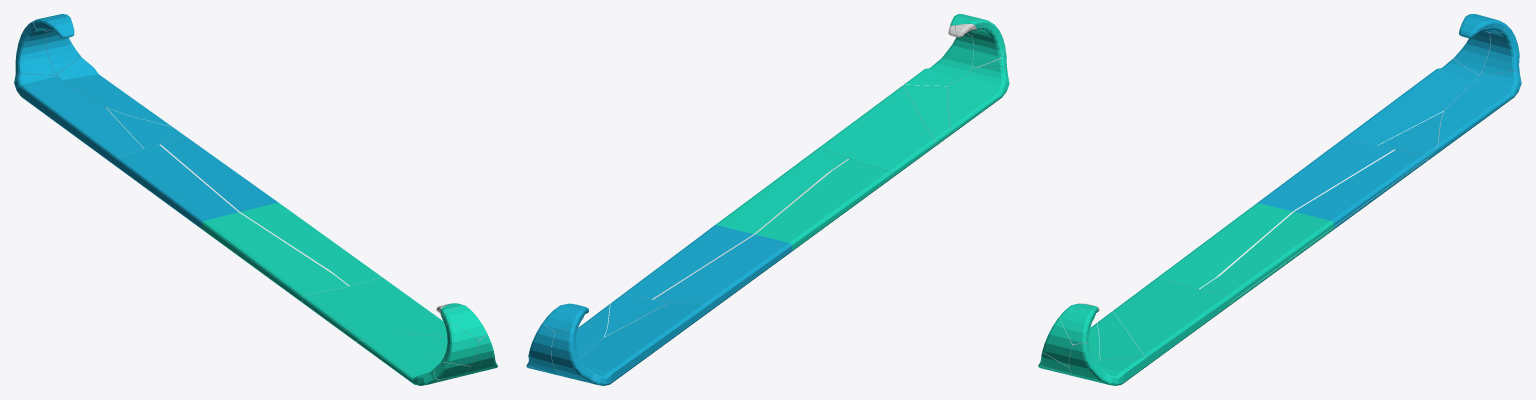
File: Structure_Tower_Knight_Human_02_Destroyed_debris_cells_main_structure_rooftop_top_ornament.fbx
3 views of the same model, side by side, from view 1: azimuth 30°, elevation 25°; view 2: azimuth 150°, elevation 25°; view 3: azimuth 330°, elevation 25° (orthographic).
Visible parts, largest first — view 1: Structure_Tower_Knight_Human_02.004_cell, Structure_Tower_Knight_Human_02.004_cell.011, Structure_Tower_Knight_Human_02.004_cell.017, Structure_Tower_Knight_Human_02.004_cell.013, Structure_Tower_Knight_Human_02.004_cell.007, Structure_Tower_Knight_Human_02.004_cell.012, Structure_Tower_Knight_Human_02.004_cell.001, Structure_Tower_Knight_Human_02.004_cell.016, Structure_Tower_Knight_Human_02.004_cell.015, Structure_Tower_Knight_Human_02.004_cell.005, Structure_Tower_Knight_Human_02.004_cell.003, Structure_Tower_Knight_Human_02.004_cell.004 (+3 smaller); view 2: Structure_Tower_Knight_Human_02.004_cell, Structure_Tower_Knight_Human_02.004_cell.011, Structure_Tower_Knight_Human_02.004_cell.017, Structure_Tower_Knight_Human_02.004_cell.013, Structure_Tower_Knight_Human_02.004_cell.012, Structure_Tower_Knight_Human_02.004_cell.010, Structure_Tower_Knight_Human_02.004_cell.016, Structure_Tower_Knight_Human_02.004_cell.001, Structure_Tower_Knight_Human_02.004_cell.015, Structure_Tower_Knight_Human_02.004_cell.005, Structure_Tower_Knight_Human_02.004_cell.007, Structure_Tower_Knight_Human_02.004_cell.003 (+1 smaller); view 3: Structure_Tower_Knight_Human_02.004_cell, Structure_Tower_Knight_Human_02.004_cell.011, Structure_Tower_Knight_Human_02.004_cell.017, Structure_Tower_Knight_Human_02.004_cell.013, Structure_Tower_Knight_Human_02.004_cell.007, Structure_Tower_Knight_Human_02.004_cell.010, Structure_Tower_Knight_Human_02.004_cell.016, Structure_Tower_Knight_Human_02.004_cell.015, Structure_Tower_Knight_Human_02.004_cell.003, Structure_Tower_Knight_Human_02.004_cell.001, Structure_Tower_Knight_Human_02.004_cell.004, Structure_Tower_Knight_Human_02.004_cell.005 (+2 smaller).
Part boxes in pixels (bbox=[...]): Structure_Tower_Knight_Human_02.004_cell: bbox=[116, 144, 349, 302]; Structure_Tower_Knight_Human_02.004_cell.011: bbox=[161, 137, 382, 285]; Structure_Tower_Knight_Human_02.004_cell.017: bbox=[302, 277, 447, 336]; Structure_Tower_Knight_Human_02.004_cell.013: bbox=[14, 73, 144, 166]; Structure_Tower_Knight_Human_02.004_cell.007: bbox=[56, 56, 174, 128]; Structure_Tower_Knight_Human_02.004_cell.012: bbox=[356, 341, 461, 385]; Structure_Tower_Knight_Human_02.004_cell.001: bbox=[15, 21, 55, 76]; Structure_Tower_Knight_Human_02.004_cell.016: bbox=[343, 329, 447, 356]; Structure_Tower_Knight_Human_02.004_cell.015: bbox=[107, 108, 185, 148]; Structure_Tower_Knight_Human_02.004_cell.005: bbox=[440, 323, 478, 366]; Structure_Tower_Knight_Human_02.004_cell.003: bbox=[46, 31, 80, 74]; Structure_Tower_Knight_Human_02.004_cell.004: bbox=[443, 305, 487, 340]; Structure_Tower_Knight_Human_02.004_cell: bbox=[651, 159, 891, 313]; Structure_Tower_Knight_Human_02.004_cell.011: bbox=[623, 148, 847, 298]; Structure_Tower_Knight_Human_02.004_cell.017: bbox=[819, 85, 934, 177]; Structure_Tower_Knight_Human_02.004_cell.013: bbox=[579, 302, 706, 385]; Structure_Tower_Knight_Human_02.004_cell.012: bbox=[945, 66, 1009, 138]; Structure_Tower_Knight_Human_02.004_cell.010: bbox=[903, 33, 973, 86]; Structure_Tower_Knight_Human_02.004_cell.016: bbox=[903, 85, 950, 148]; Structure_Tower_Knight_Human_02.004_cell.001: bbox=[551, 326, 595, 382]; Structure_Tower_Knight_Human_02.004_cell.015: bbox=[605, 294, 669, 336]; Structure_Tower_Knight_Human_02.004_cell.005: bbox=[972, 20, 1005, 68]; Structure_Tower_Knight_Human_02.004_cell.007: bbox=[526, 303, 621, 372]; Structure_Tower_Knight_Human_02.004_cell.003: bbox=[528, 324, 561, 376]; Structure_Tower_Knight_Human_02.004_cell: bbox=[1157, 139, 1426, 305]; Structure_Tower_Knight_Human_02.004_cell.011: bbox=[1200, 150, 1426, 302]; Structure_Tower_Knight_Human_02.004_cell.017: bbox=[1113, 277, 1229, 362]; Structure_Tower_Knight_Human_02.004_cell.013: bbox=[1342, 59, 1478, 145]; Structure_Tower_Knight_Human_02.004_cell.007: bbox=[1426, 71, 1521, 161]; Structure_Tower_Knight_Human_02.004_cell.010: bbox=[1069, 343, 1151, 385]; Structure_Tower_Knight_Human_02.004_cell.016: bbox=[1097, 311, 1151, 362]; Structure_Tower_Knight_Human_02.004_cell.015: bbox=[1378, 112, 1442, 159]; Structure_Tower_Knight_Human_02.004_cell.003: bbox=[1479, 24, 1519, 74]; Structure_Tower_Knight_Human_02.004_cell.001: bbox=[1453, 30, 1490, 75]; Structure_Tower_Knight_Human_02.004_cell.004: bbox=[1059, 308, 1095, 344]; Structure_Tower_Knight_Human_02.004_cell.005: bbox=[1042, 317, 1073, 366].
Bounding box in the file's own units: 60.48 × 51.42 × 580.
